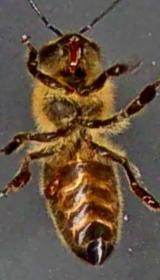varroa_mite: (33, 173, 70, 202)
